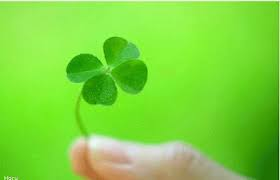4-clover: (68, 35, 148, 106)
